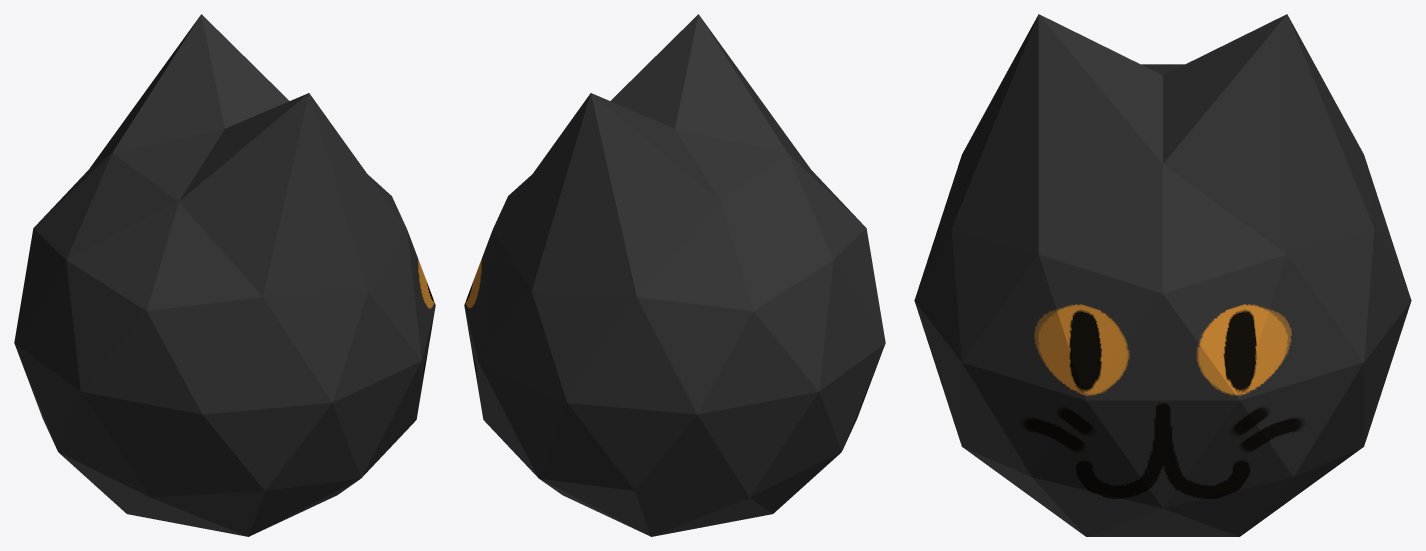
The model's file is Cat.glb.
3 views of the same model, side by side, from view 1: azimuth 30°, elevation 25°; view 2: azimuth 150°, elevation 25°; view 3: azimuth 270°, elevation 25° (orthographic). The views are drawn at different scales.
Visible parts, largest first — view 1: Icosphere; view 2: Icosphere; view 3: Icosphere.
Boxes of the visible parts, bbox=[...] form: Icosphere: bbox=[14, 14, 435, 536]; Icosphere: bbox=[464, 14, 885, 536]; Icosphere: bbox=[914, 14, 1411, 536].
Bounding box in the file's own units: 1.9 × 2.35 × 2.
Materials: 1 (1 with a texture image).
